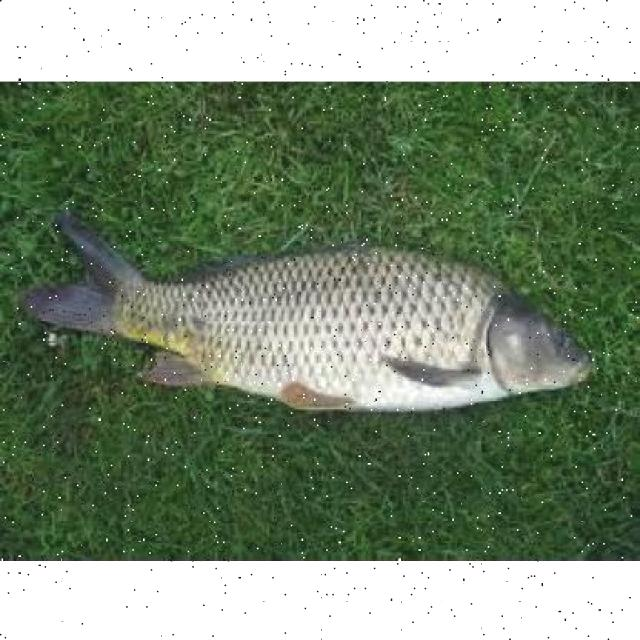ikan-mas: (36, 218, 592, 410)
